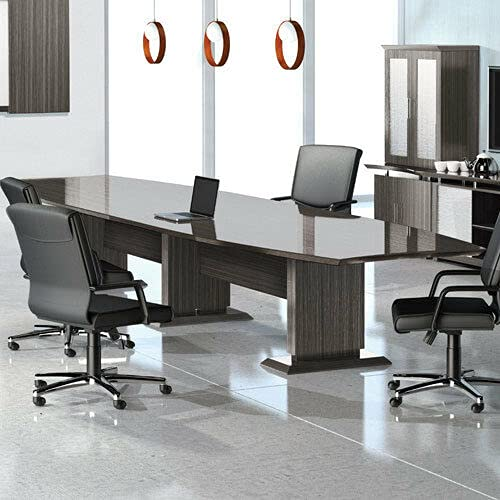conference_table: (14, 174, 483, 377)
